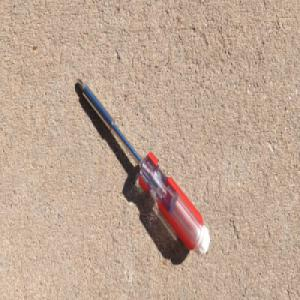Screwdriver: (75, 74, 211, 259)
